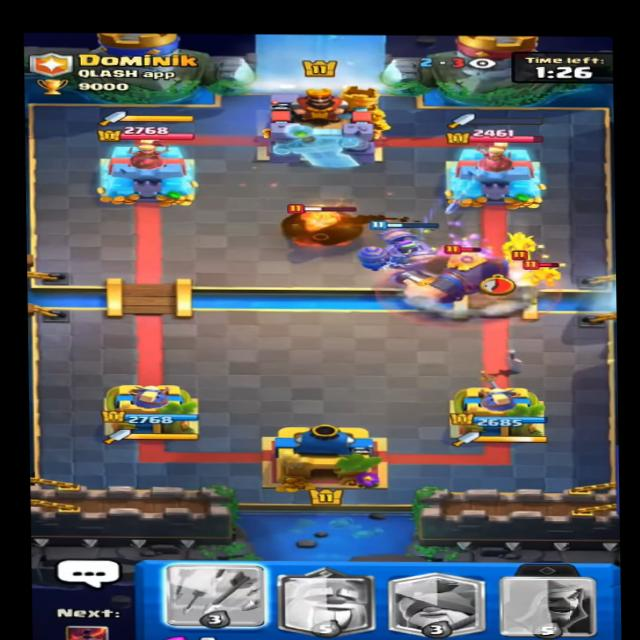goblin: (519, 261, 569, 286), (500, 229, 540, 256)
tesla: (273, 197, 366, 250)
